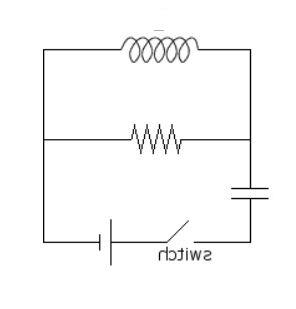resistor: (115, 114, 199, 157)
